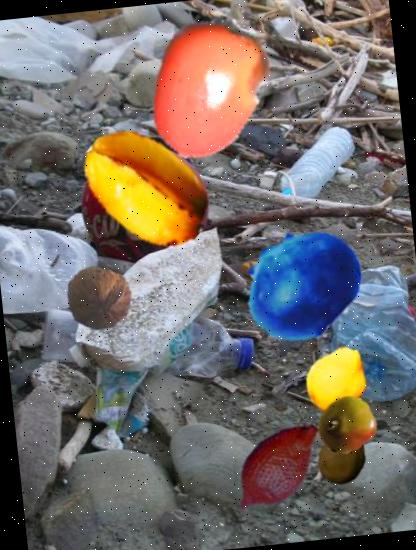Apple: (314, 392, 380, 458)
Carambula: (70, 111, 224, 264)
Huckleberry: (233, 216, 368, 352)
Kaki: (127, 7, 290, 170)
Papaya: (312, 426, 374, 488)
Quince: (296, 340, 378, 422)
Salak: (215, 406, 338, 530)
Walnut: (61, 261, 136, 335)
